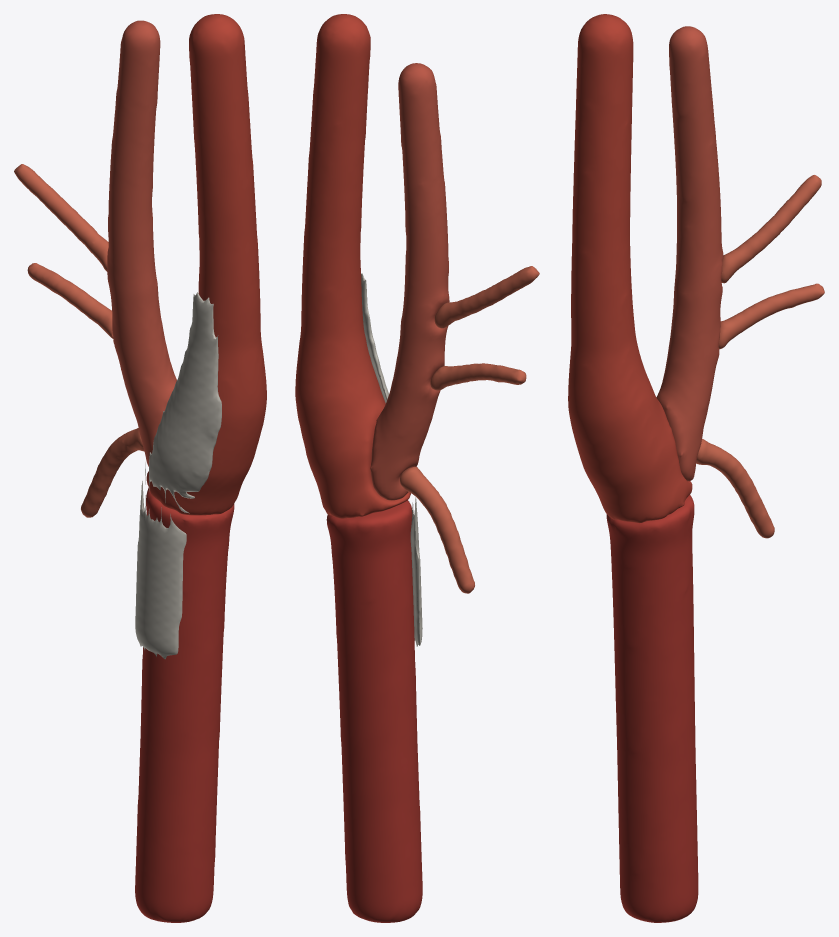
The model's file is carotid_endarterectomy.glb.
3 renders of one model, left to right at view 1: azimuth 30°, elevation 25°; view 2: azimuth 210°, elevation 25°; view 3: azimuth 270°, elevation 25°, orthographic. The views are drawn at different scales.
Visible parts, largest first — view 1: common_carotid, internal_carotid, external_carotid, endarterectomy_patch, eca_branches; view 2: common_carotid, internal_carotid, external_carotid, eca_branches, endarterectomy_patch; view 3: internal_carotid, common_carotid, external_carotid, eca_branches.
Part boxes in pixels (x1,y1,x2,y2): common_carotid: [135, 487, 234, 922]; internal_carotid: [146, 14, 266, 515]; external_carotid: [107, 20, 176, 466]; endarterectomy_patch: [135, 292, 221, 659]; eca_branches: [14, 164, 144, 517]; common_carotid: [326, 500, 422, 922]; internal_carotid: [295, 14, 410, 518]; external_carotid: [370, 63, 449, 500]; eca_branches: [400, 266, 539, 593]; endarterectomy_patch: [361, 273, 422, 646]; internal_carotid: [568, 14, 692, 523]; common_carotid: [606, 495, 698, 922]; external_carotid: [656, 26, 723, 481]; eca_branches: [696, 175, 824, 538].
Size of the model in its own units: 2.9 by 17.66 by 4.55.
